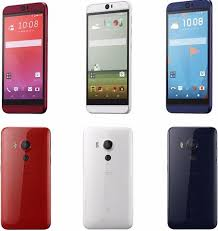htc: (162, 1, 214, 115), (82, 1, 133, 115), (83, 123, 135, 231), (165, 122, 216, 231), (1, 1, 49, 116), (1, 123, 52, 231)
